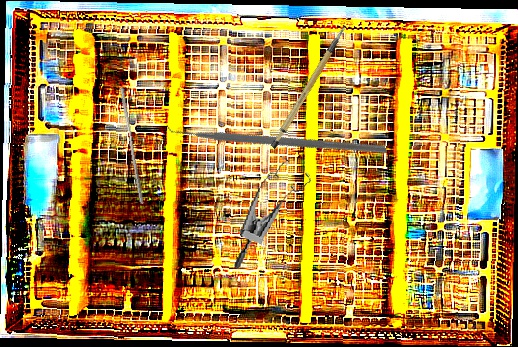Chopper: (161, 31, 388, 236)
Pusher: (115, 86, 149, 205)
Scalpel Handle: (255, 24, 365, 151)
Speculum: (232, 151, 315, 280)
